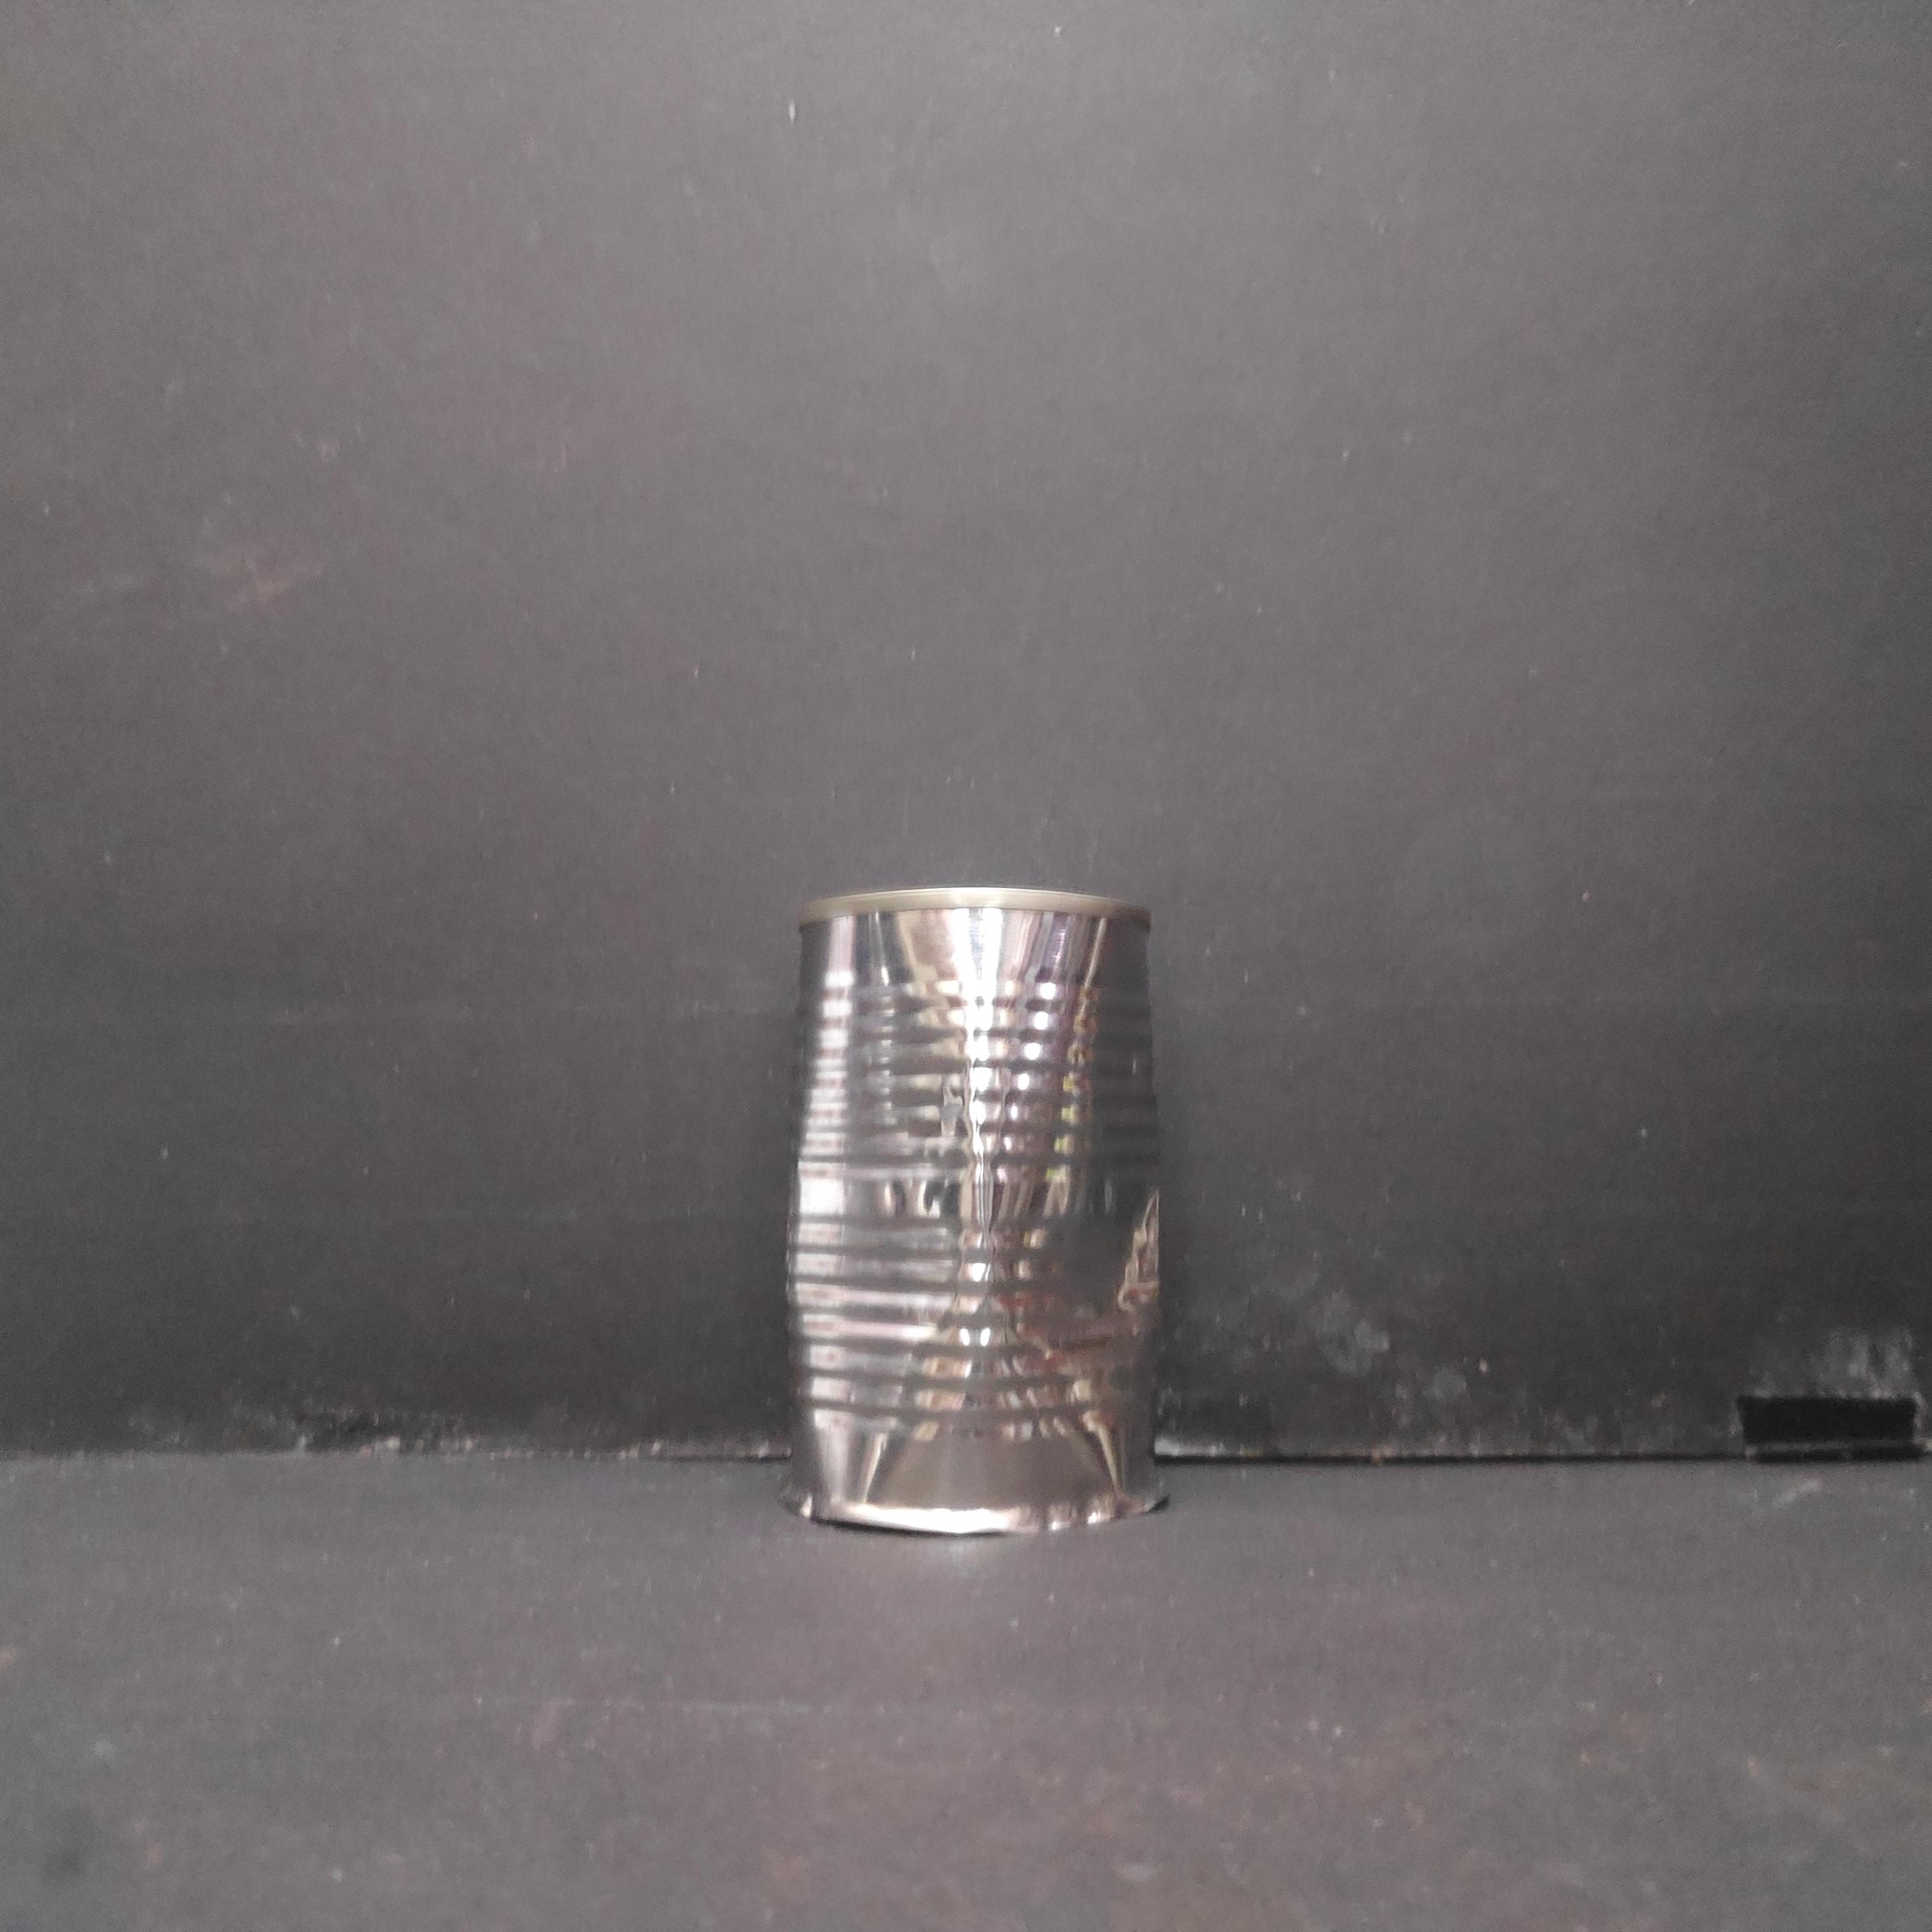Minor Defect: (768, 870, 1180, 1541)
